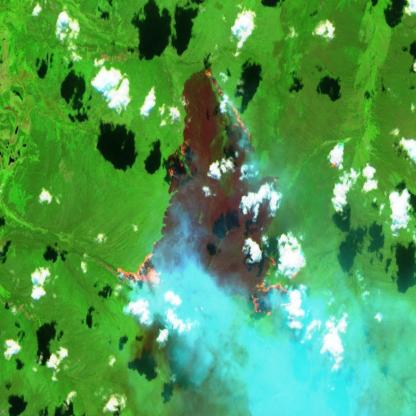fire: (201, 63, 256, 159), (245, 254, 306, 320), (114, 253, 164, 290), (167, 144, 195, 186)
